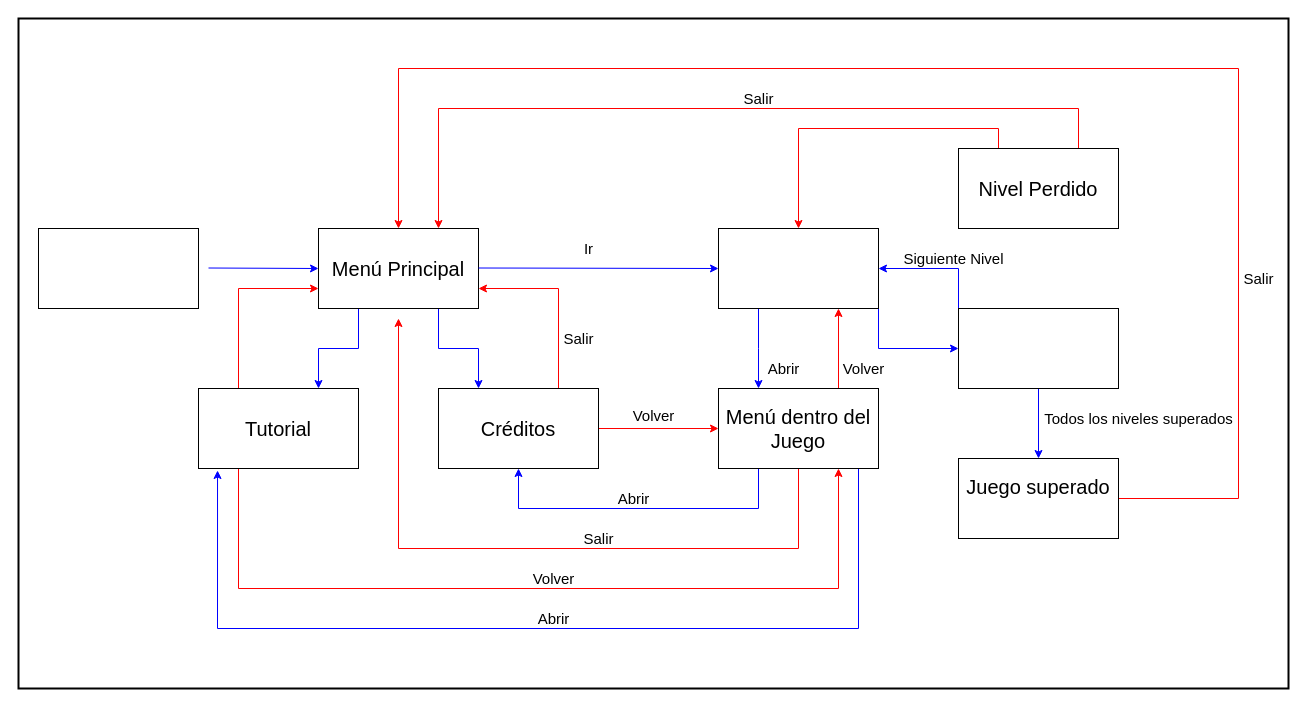
This 1306x706 diagram has some shape labels left out. The centre of each missing label's shape, as x and y in pixels:
"Juego" belongs at pixel 798 268.
"Nivel Superado" belongs at pixel 1038 348.
"Preoloader" belongs at pixel 118 268.
